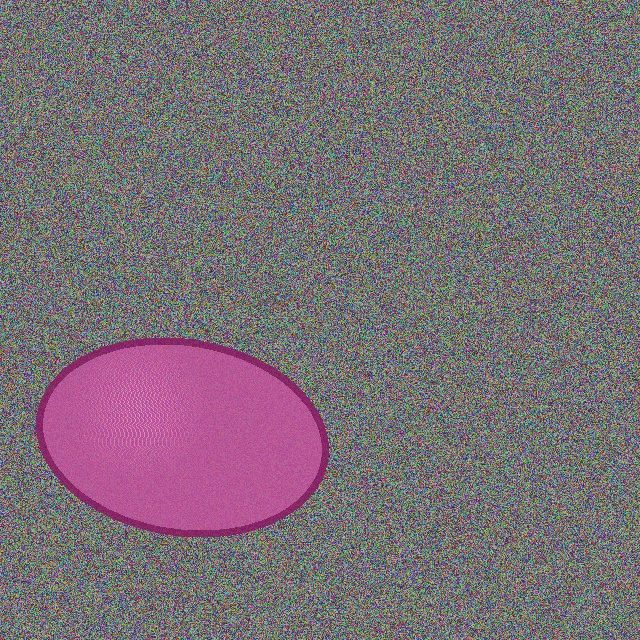lens: (40, 341, 324, 533)
